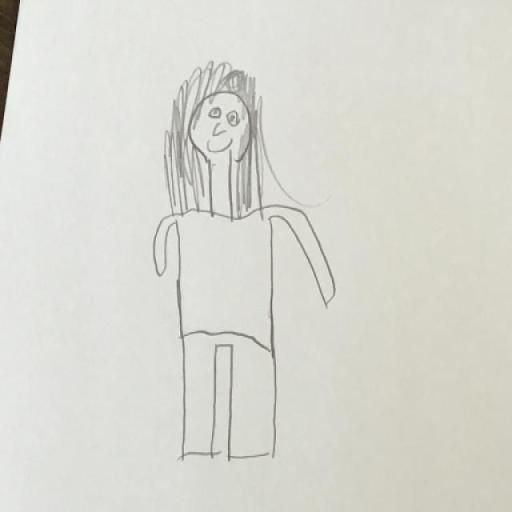person: (147, 55, 338, 471)
